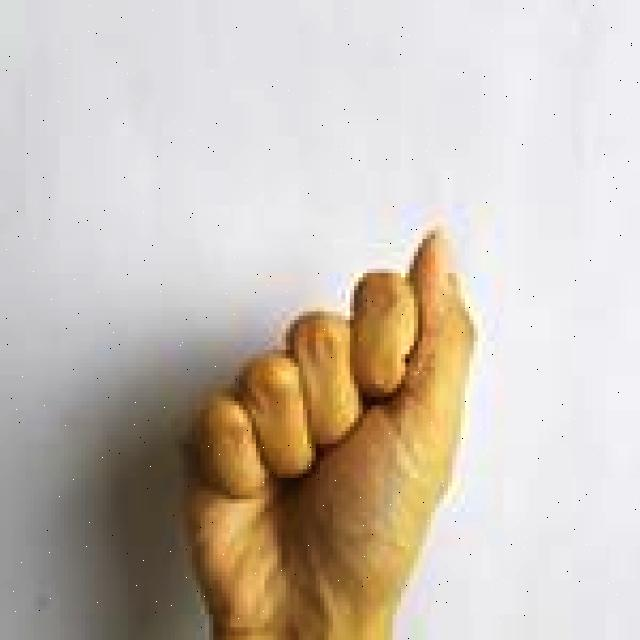A: (163, 211, 486, 640)
